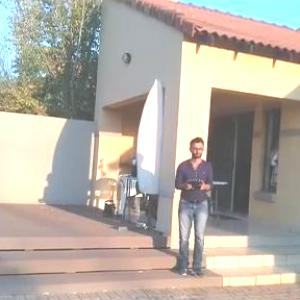follow: (169, 132, 219, 280)
